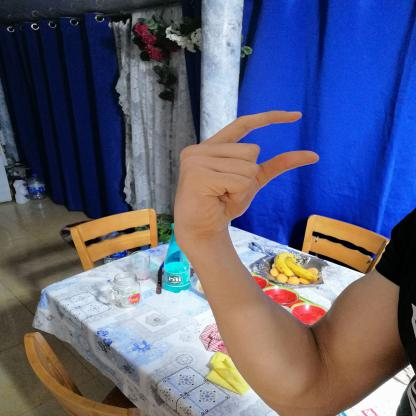DELL: (160, 100, 334, 250)
